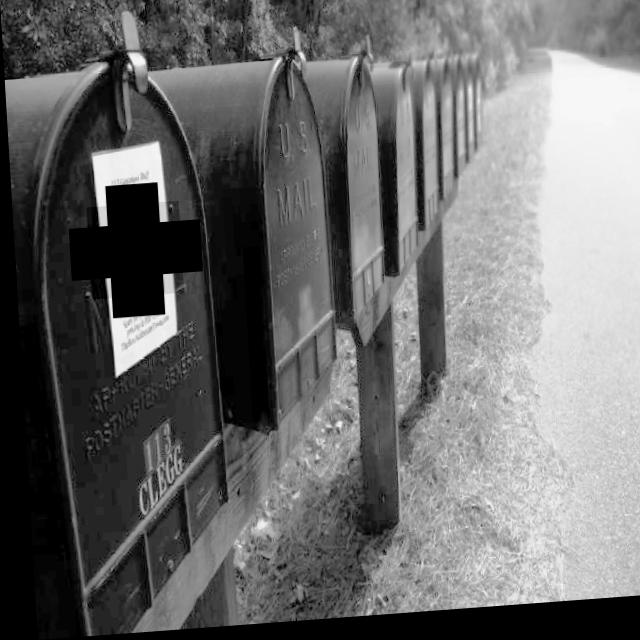qr_code: (84, 203, 180, 301)
